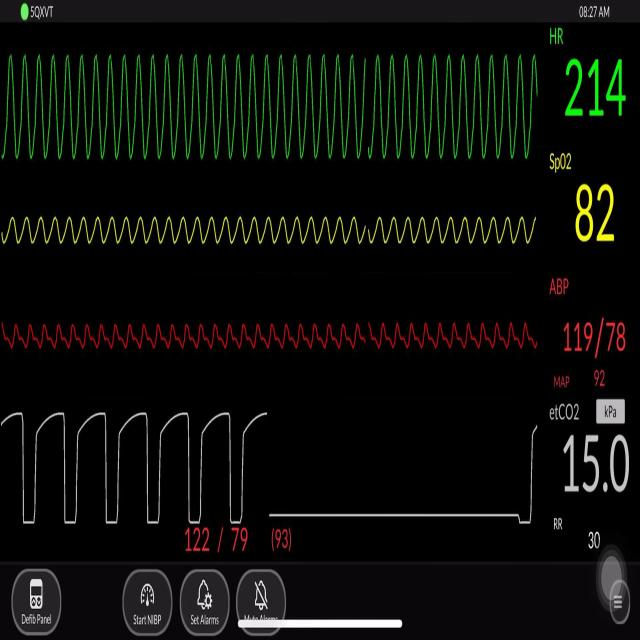danger: (10, 33, 543, 180)
